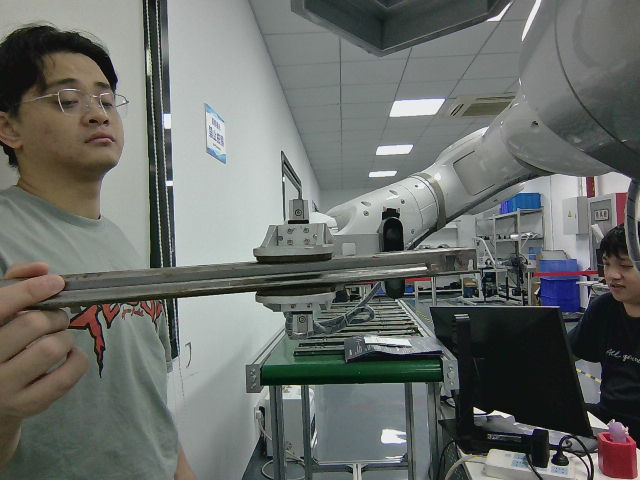down: (59, 246, 478, 306)
